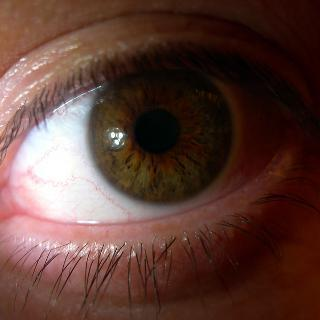iris: (83, 53, 234, 205)
